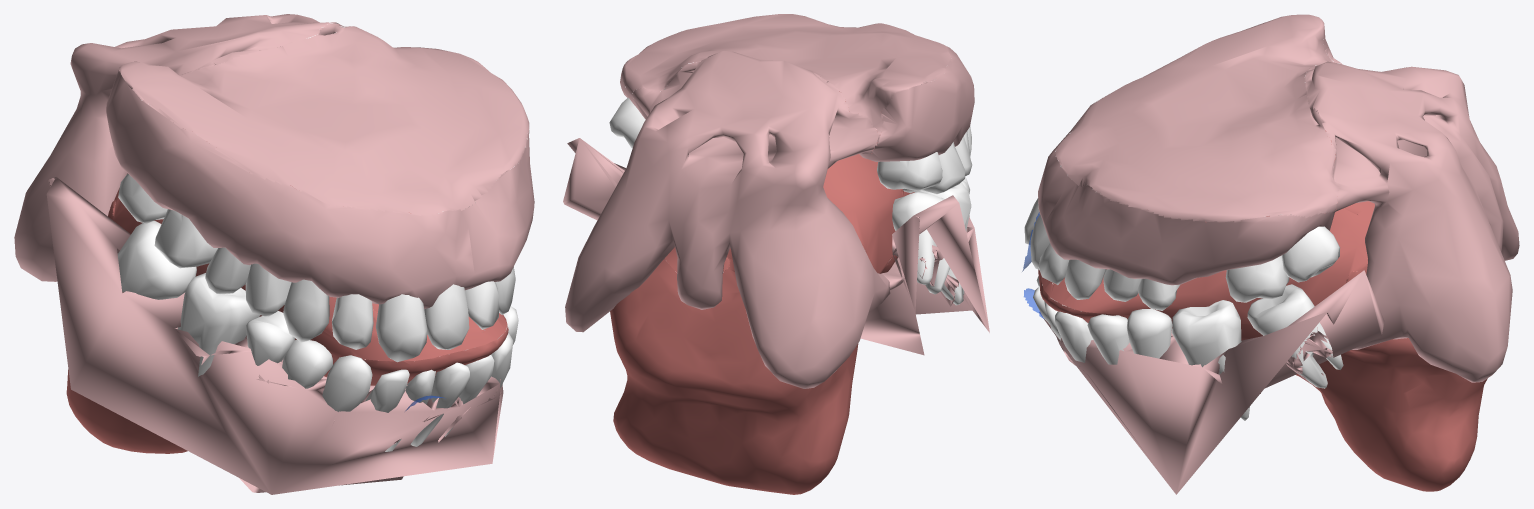
Rendered from mouth.glb.
The picture shows the model from 3 angles, left to right: view 1: azimuth 30°, elevation 25°; view 2: azimuth 150°, elevation 25°; view 3: azimuth 270°, elevation 25°; orthographic projection. The views are drawn at different scales.
Visible parts, largest first — view 1: VH_M_gingiva_of_lower_jaw, VH_M_hard_palate, VH_M_ginviva_of_upper_jaw, VH_M_set_of_lower_jaw_teeth, VH_M_mucosa_of_soft_palate, VH_M_set_of_upper_jaw_teeth, VH_M_dorsal_tongue, VH_M_posterior_part_of_tongue, VH_M_ventral_tongue; view 2: VH_M_mucosa_of_soft_palate, VH_M_posterior_part_of_tongue, VH_M_hard_palate, VH_M_gingiva_of_lower_jaw, VH_M_ginviva_of_upper_jaw, VH_M_dorsal_tongue, VH_M_set_of_upper_jaw_teeth, VH_M_set_of_lower_jaw_teeth; view 3: VH_M_mucosa_of_soft_palate, VH_M_hard_palate, VH_M_gingiva_of_lower_jaw, VH_M_posterior_part_of_tongue, VH_M_ginviva_of_upper_jaw, VH_M_set_of_lower_jaw_teeth, VH_M_set_of_upper_jaw_teeth, VH_M_dorsal_tongue, VH_M_ventral_tongue.
Part boxes in pixels (left/top/right/bottom): VH_M_gingiva_of_lower_jaw: left=46, top=177, right=503, bottom=494; VH_M_hard_palate: left=119, top=23, right=529, bottom=215; VH_M_ginviva_of_upper_jaw: left=106, top=67, right=534, bottom=308; VH_M_set_of_lower_jaw_teeth: left=117, top=221, right=518, bottom=451; VH_M_mucosa_of_soft_palate: left=14, top=14, right=354, bottom=281; VH_M_set_of_upper_jaw_teeth: left=118, top=173, right=515, bottom=362; VH_M_dorsal_tongue: left=112, top=173, right=507, bottom=361; VH_M_posterior_part_of_tongue: left=66, top=369, right=187, bottom=453; VH_M_ventral_tongue: left=295, top=326, right=508, bottom=385; VH_M_mucosa_of_soft_palate: left=565, top=51, right=890, bottom=388; VH_M_posterior_part_of_tongue: left=610, top=259, right=858, bottom=494; VH_M_hard_palate: left=622, top=14, right=952, bottom=134; VH_M_gingiva_of_lower_jaw: left=563, top=138, right=989, bottom=355; VH_M_ginviva_of_upper_jaw: left=620, top=46, right=974, bottom=161; VH_M_dorsal_tongue: left=664, top=91, right=914, bottom=292; VH_M_set_of_upper_jaw_teeth: left=609, top=67, right=972, bottom=193; VH_M_set_of_lower_jaw_teeth: left=892, top=177, right=971, bottom=305; VH_M_mucosa_of_soft_palate: left=1304, top=61, right=1519, bottom=382; VH_M_hard_palate: left=1055, top=14, right=1340, bottom=222; VH_M_gingiva_of_lower_jaw: left=1039, top=97, right=1384, bottom=494; VH_M_posterior_part_of_tongue: left=1296, top=338, right=1487, bottom=491; VH_M_ginviva_of_upper_jaw: left=1038, top=23, right=1339, bottom=285; VH_M_set_of_lower_jaw_teeth: left=1033, top=276, right=1343, bottom=420; VH_M_set_of_upper_jaw_teeth: left=1024, top=165, right=1340, bottom=310; VH_M_dorsal_tongue: left=1040, top=130, right=1374, bottom=324; VH_M_ventral_tongue: left=1038, top=269, right=1262, bottom=340.
Bounding box in the file's own units: 0.2192 × 0.2006 × 0.2383.
